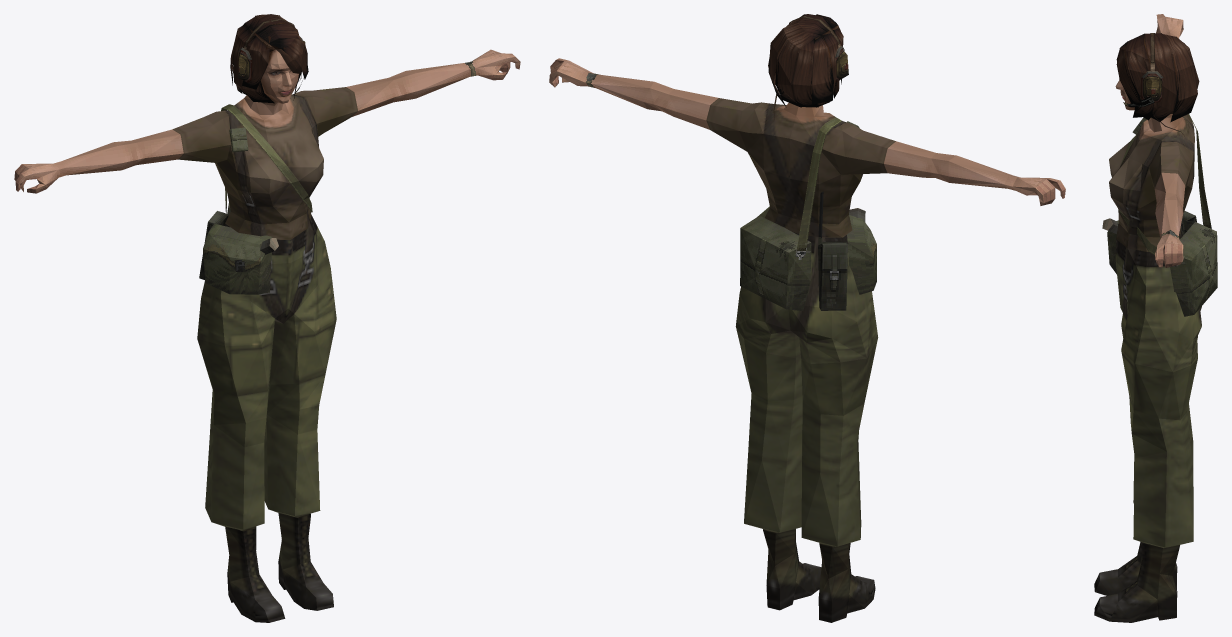
Rendered from Para-Medic.obj.
3 views of the same model, side by side, from view 1: azimuth 30°, elevation 25°; view 2: azimuth 150°, elevation 25°; view 3: azimuth 270°, elevation 25° (orthographic). The views are drawn at different scales.
Parts seen in each view (by area): view 1: Regroup82, Regroup84, Regroup81, Regroup88, Tex_0666_0.dds, Tex_0715_0.dds, Regroup89, Regroup87, Regroup85; view 2: Regroup82, Regroup84, Regroup88, Regroup81, Tex_0715_0.dds, Regroup83, Tex_0668_0.dds, Regroup89, Tex_0666_0.dds, Regroup90; view 3: Regroup82, Regroup84, Regroup81, Tex_0715_0.dds, Regroup83, Regroup88, Regroup89, Regroup90, Tex_0701_0.dds, Tex_0666_0.dds, Regroup91, Regroup86 (+1 smaller).
Boxes of the visible parts, x1,y1,x2,y2 form: Regroup82: (197, 215, 336, 530); Regroup84: (172, 87, 357, 239); Regroup81: (225, 513, 333, 622); Regroup88: (61, 63, 469, 175); Tex_0666_0.dds: (203, 224, 272, 294); Tex_0715_0.dds: (230, 14, 308, 103); Regroup89: (14, 49, 520, 193); Regroup87: (260, 49, 298, 103); Regroup85: (228, 105, 309, 205); Regroup82: (735, 232, 878, 546); Regroup84: (706, 98, 895, 237); Regroup88: (592, 75, 1011, 188); Regroup81: (763, 529, 875, 622); Tex_0715_0.dds: (768, 14, 843, 107); Regroup83: (740, 121, 859, 310); Tex_0668_0.dds: (818, 241, 847, 310); Regroup89: (549, 58, 1065, 205); Tex_0666_0.dds: (847, 215, 876, 294); Regroup90: (757, 123, 831, 259); Regroup82: (1115, 229, 1201, 548); Regroup84: (1109, 114, 1194, 251); Regroup81: (1094, 542, 1179, 622); Tex_0715_0.dds: (1116, 33, 1199, 122); Regroup83: (1132, 117, 1217, 316); Regroup88: (1154, 172, 1185, 238); Regroup89: (1155, 14, 1183, 267); Regroup90: (1137, 114, 1211, 266); Tex_0701_0.dds: (1141, 73, 1163, 102); Tex_0666_0.dds: (1107, 220, 1118, 274); Regroup91: (1102, 71, 1163, 233); Regroup86: (1150, 33, 1184, 136).
Size of the model in its own units: 15.18 by 16.64 by 3.29.
20 materials, 20 textured.
